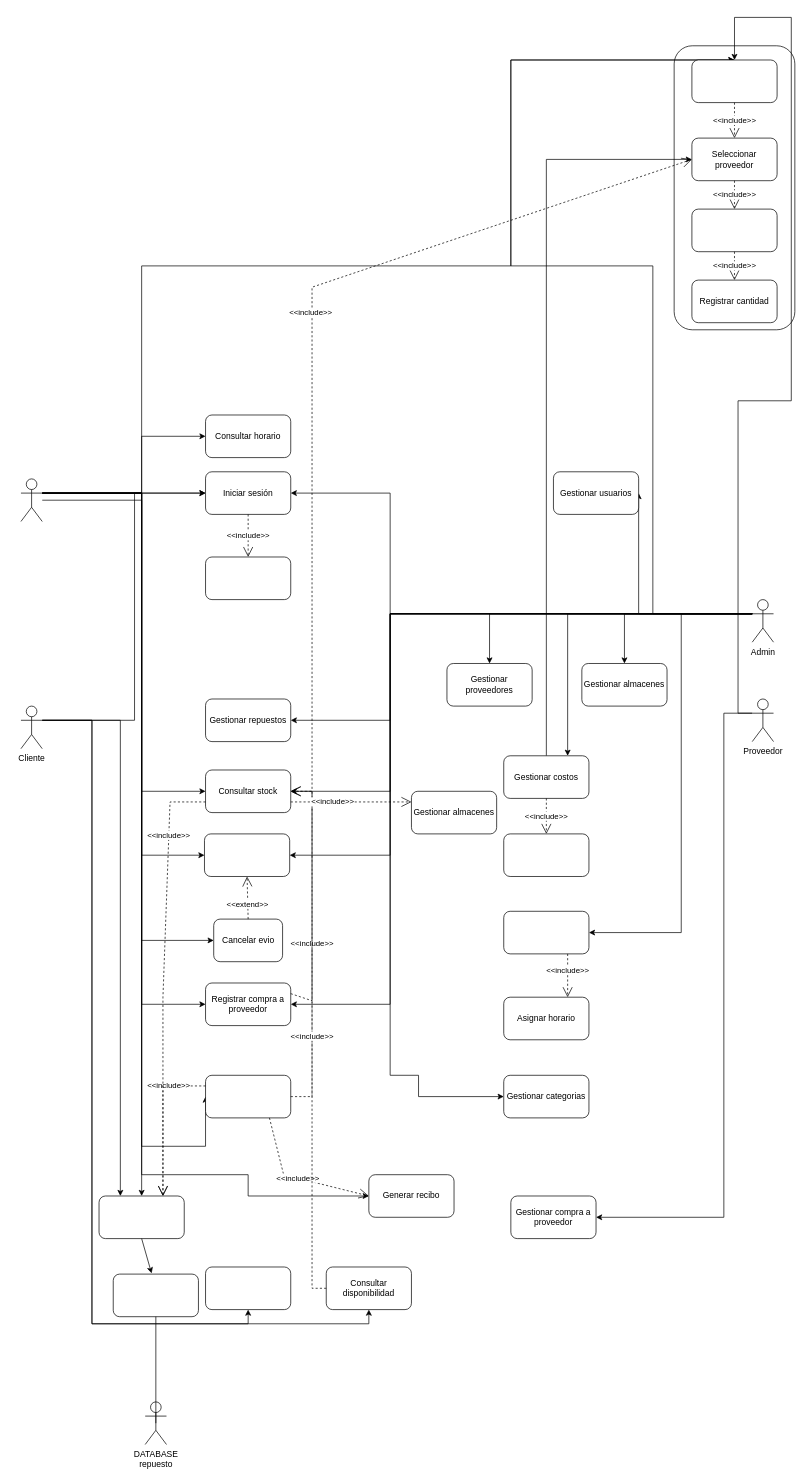
This 809x1482 diagram has some shape labels left out. Each missing label, with the centre of its shape:
consulta al sistema: the point at 155,1295
Consultar recibos: the point at 248,1288
Consultar repuestos: the point at 141,1217
Empleado: the point at 31,499
Gestionar envíos: the point at 247,854
Gestionar horarios: the point at 546,932
Gestionar ventas: the point at 248,1096
Registrar compra proveedor: the point at 734,81
Registrar conexión: the point at 248,578
Seleccionar categoría: the point at 546,854
Seleccionar repuesto: the point at 734,230
